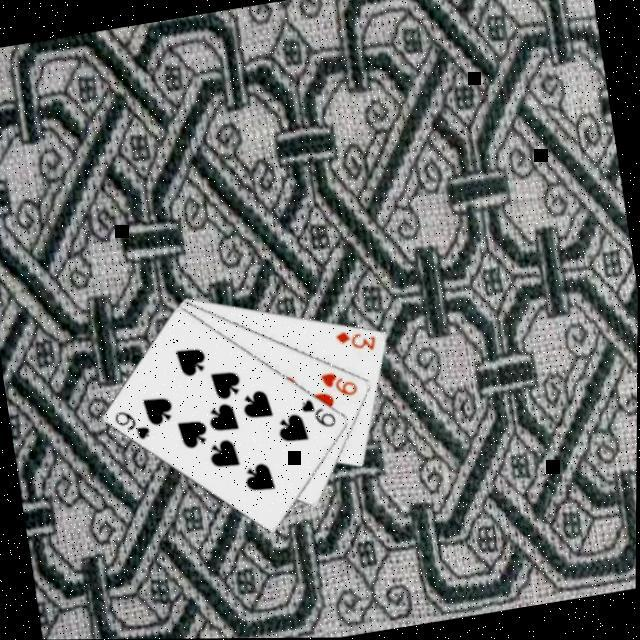3D: (330, 322, 379, 357)
9H: (316, 364, 360, 402)
9S: (108, 402, 154, 445), (296, 390, 338, 432)
